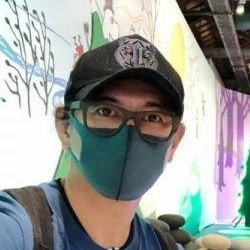mask: (56, 110, 175, 201)
